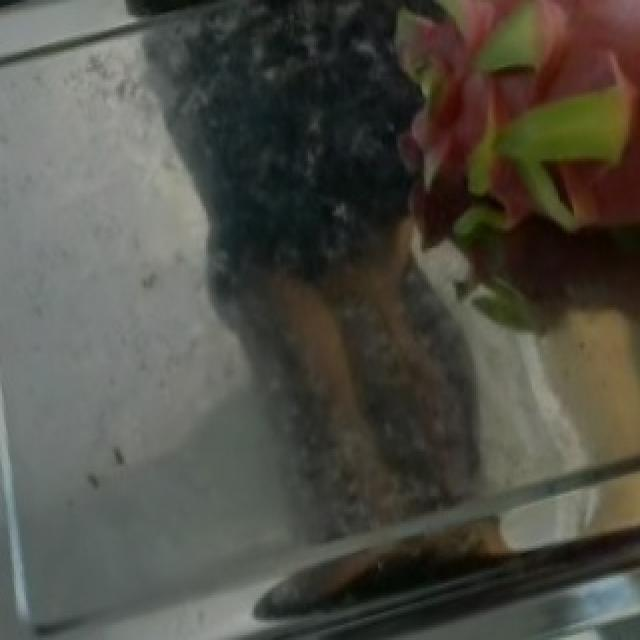fruit: (308, 0, 640, 394)
